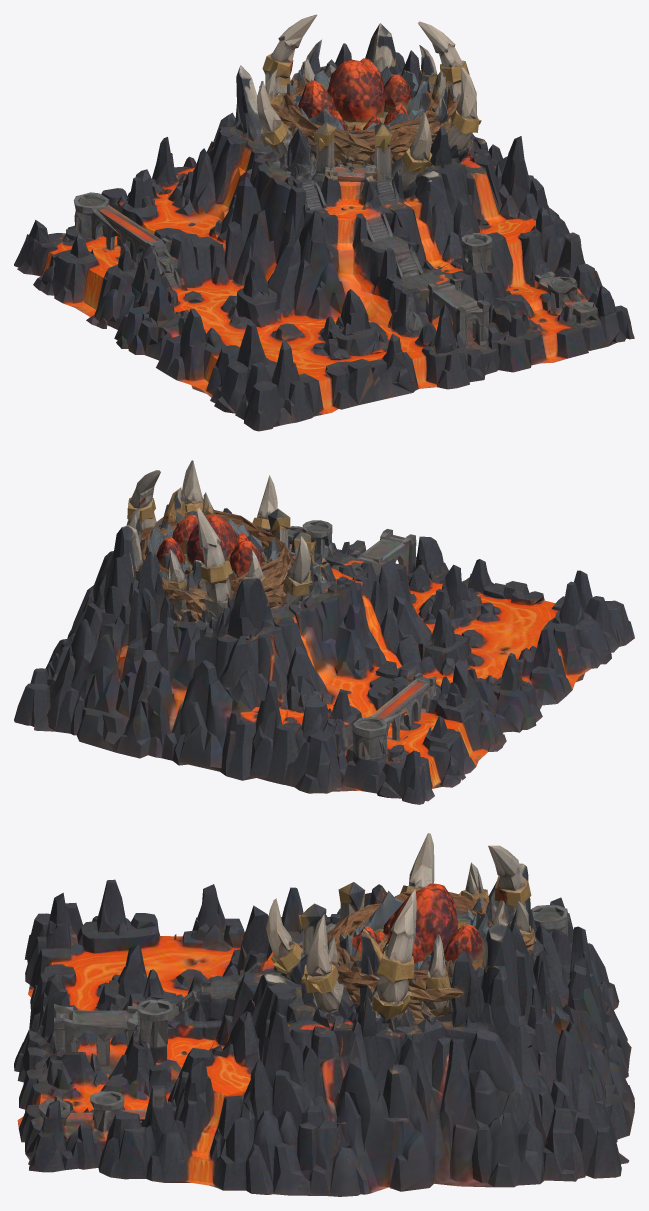
File: volcano.glb
The picture shows the model from 3 angles, top to bottom: view 1: azimuth 30°, elevation 25°; view 2: azimuth 150°, elevation 25°; view 3: azimuth 270°, elevation 25°; orthographic projection. The views are drawn at different scales.
Visible parts, largest first — view 1: output_unwrapped; view 2: output_unwrapped; view 3: output_unwrapped.
Boxes of the visible parts, left/top/right/bottom form: output_unwrapped: left=14, top=14, right=634, bottom=431; output_unwrapped: left=14, top=460, right=634, bottom=804; output_unwrapped: left=14, top=833, right=634, bottom=1196.
Size of the model in its own units: 1.86 by 0.8537 by 1.9.
1 material, 1 textured.
